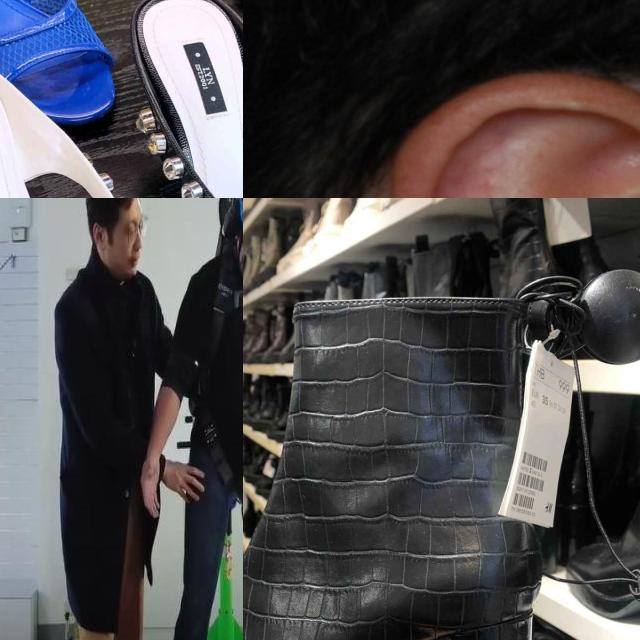Harness: (190, 247, 243, 505)
No_Ear-Protection: (382, 66, 640, 198)
Sandals: (243, 251, 563, 640), (0, 38, 243, 198), (128, 0, 243, 198)
